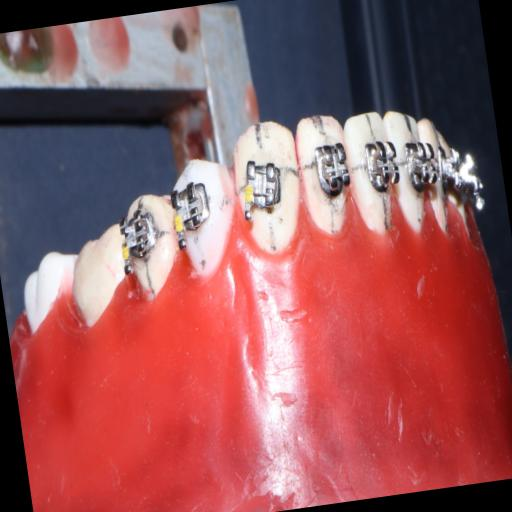incorrect_brace: (236, 152, 290, 224)
